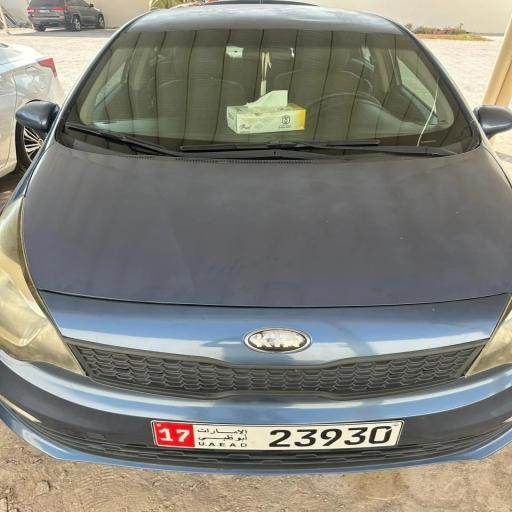license-plates: (151, 420, 404, 450)
